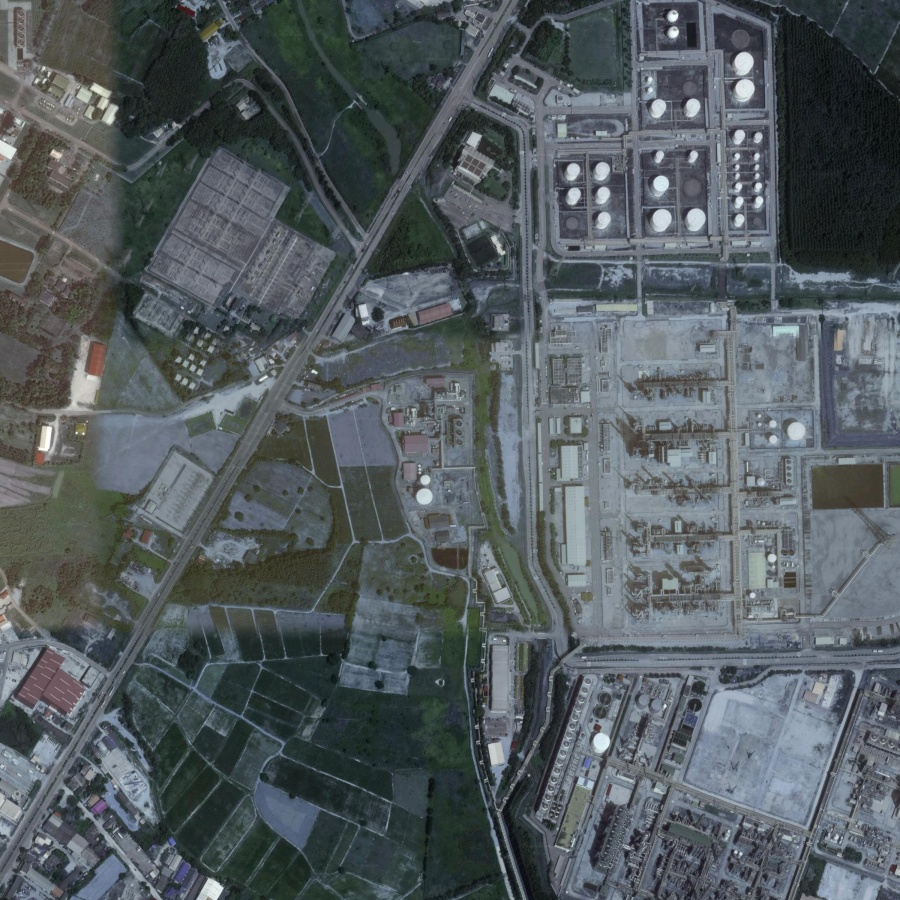PowerPlant: (613, 350, 807, 538)
